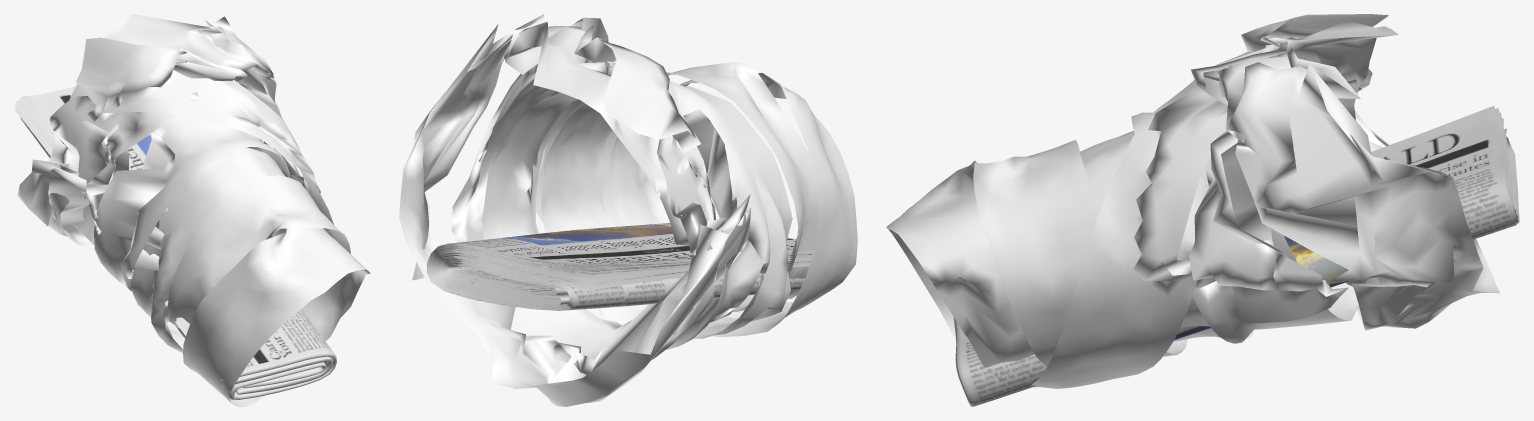
The model's file is NwePaper&cloth.fbx.
The picture shows the model from 3 angles, left to right: view 1: azimuth 30°, elevation 25°; view 2: azimuth 150°, elevation 25°; view 3: azimuth 270°, elevation 25°; orthographic projection. The views are drawn at different scales.
Visible parts, largest first — view 1: arm bandage2, Object_2; view 2: arm bandage2, Object_2; view 3: arm bandage2, Object_2.
Part boxes in pixels (x1,y1,x2,y2): arm bandage2: (17,14,370,406); Object_2: (14,86,336,399); arm bandage2: (399,14,857,406); Object_2: (426,223,851,310); arm bandage2: (886,14,1499,388); Object_2: (953,106,1519,406).
Size of the model in its own units: 15.59 by 18.09 by 27.54.
